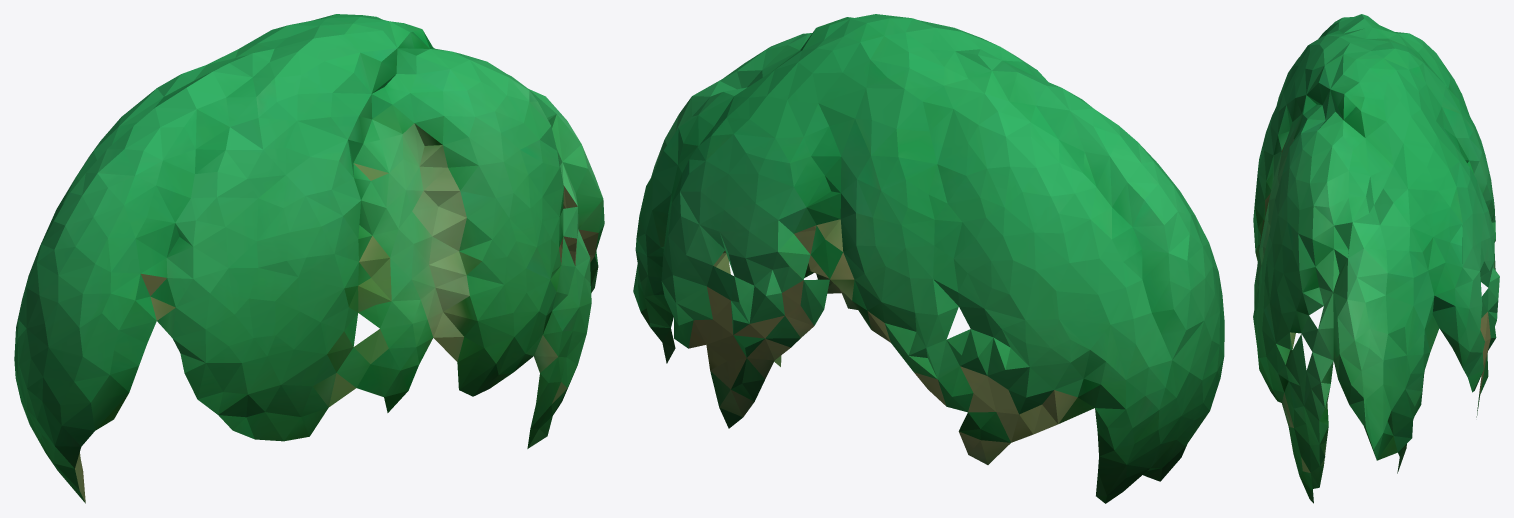
File: hairstyle_065.glb
3 renders of one model, left to right at view 1: azimuth 30°, elevation 25°; view 2: azimuth 150°, elevation 25°; view 3: azimuth 270°, elevation 25°, orthographic. The views are drawn at different scales.
Parts seen in each view (by area): view 1: geometry_0_065; view 2: geometry_0_065; view 3: geometry_0_065.
Boxes of the visible parts, left/top/right/bottom form: geometry_0_065: left=14, top=14, right=604, bottom=503; geometry_0_065: left=633, top=14, right=1224, bottom=503; geometry_0_065: left=1253, top=14, right=1499, bottom=503.
Size of the model in its own units: 1.02 by 0.7428 by 0.4393.
1 material, 1 textured.
